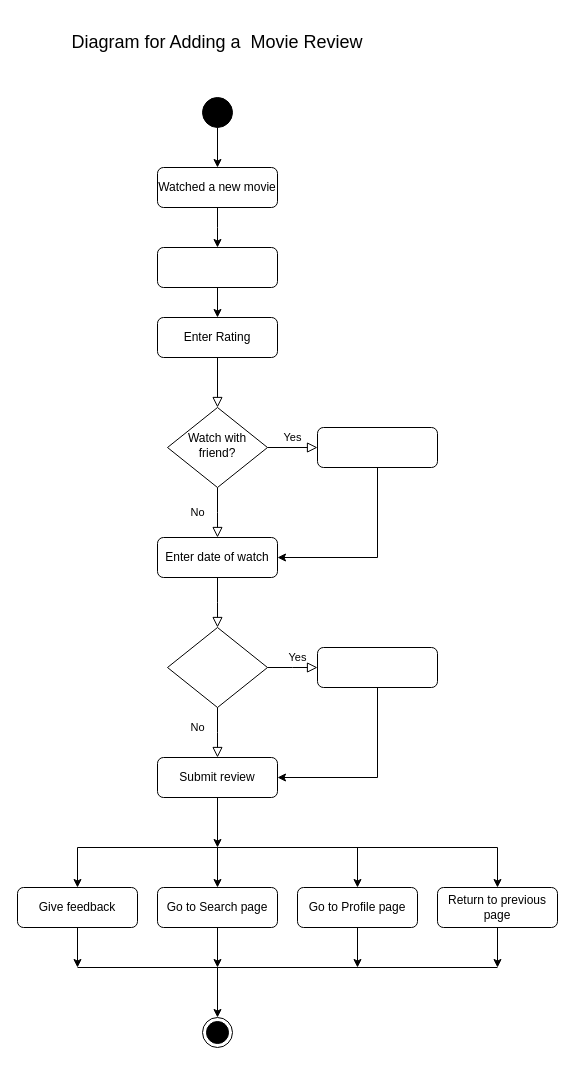
Image size: 575x1065. Some labels were removed from this diagram. The centre of each missing label's shape, as x and y in pixels:
"Enter Movie Name" goes at point 217,267.
"Tag friends" goes at point 377,447.
"Want to Comment?" goes at point 217,667.
"Write comment" goes at point 377,667.
